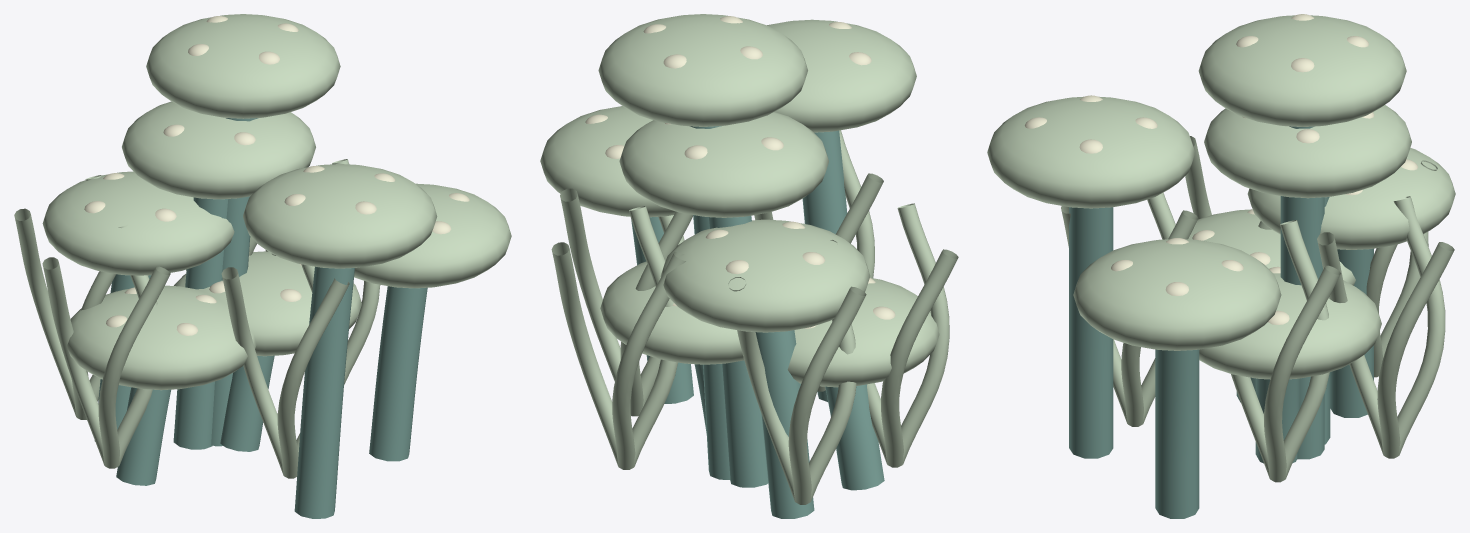
File: bio_spore_fungus_09_near.glb
3 views of the same model, side by side, from view 1: azimuth 30°, elevation 25°; view 2: azimuth 150°, elevation 25°; view 3: azimuth 270°, elevation 25° (orthographic). The views are drawn at different scales.
Parts seen in each view (by area): view 1: Thick umbrella cap.003, Thick umbrella cap.002, Thick umbrella cap.001, Thick umbrella cap.006, Thick umbrella cap.004, Curved stipe.002, Thick umbrella cap.005, Spiral filament.012, Curved stipe.005, Spiral filament.006, Thick umbrella cap, Spiral filament.003 (+9 smaller); view 2: Thick umbrella cap.003, Thick umbrella cap.001, Thick umbrella cap.006, Thick umbrella cap.002, Spiral filament.009, Spiral filament.003, Spiral filament.012, Thick umbrella cap.005, Thick umbrella cap.004, Thick umbrella cap, Spiral filament, Curved stipe.006 (+9 smaller); view 3: Thick umbrella cap.002, Thick umbrella cap.005, Thick umbrella cap.003, Thick umbrella cap.006, Spiral filament.009, Thick umbrella cap, Curved stipe.002, Thick umbrella cap.001, Spiral filament, Curved stipe.005, Spiral filament.006, Curved stipe.003 (+8 smaller).
Part boxes in pixels (x1,y1,x2,y2): Thick umbrella cap.003: [146, 14, 340, 118]; Thick umbrella cap.002: [243, 164, 437, 268]; Thick umbrella cap.001: [42, 171, 234, 275]; Thick umbrella cap.006: [122, 101, 315, 199]; Thick umbrella cap.004: [67, 285, 256, 390]; Curved stipe.002: [294, 266, 354, 518]; Thick umbrella cap.005: [354, 183, 511, 288]; Spiral filament.012: [42, 225, 170, 468]; Curved stipe.005: [369, 286, 427, 461]; Spiral filament.006: [221, 264, 349, 478]; Thick umbrella cap: [174, 251, 361, 356]; Spiral filament.003: [14, 175, 116, 419]; Thick umbrella cap.003: [598, 14, 807, 126]; Thick umbrella cap.001: [660, 219, 870, 332]; Thick umbrella cap.006: [619, 112, 828, 217]; Thick umbrella cap.002: [767, 19, 916, 132]; Spiral filament.009: [551, 206, 685, 469]; Spiral filament.003: [728, 277, 866, 504]; Spiral filament.012: [830, 203, 958, 467]; Thick umbrella cap.005: [540, 106, 675, 217]; Thick umbrella cap.004: [787, 278, 939, 387]; Thick umbrella cap: [600, 261, 743, 364]; Spiral filament: [560, 188, 692, 416]; Curved stipe.006: [708, 216, 768, 487]; Thick umbrella cap.002: [987, 96, 1195, 208]; Thick umbrella cap.005: [1073, 239, 1281, 350]; Thick umbrella cap.003: [1198, 15, 1406, 126]; Thick umbrella cap.006: [1204, 105, 1411, 198]; Spiral filament.009: [1317, 196, 1454, 458]; Thick umbrella cap: [1199, 273, 1381, 379]; Curved stipe.002: [1069, 207, 1113, 458]; Thick umbrella cap.001: [1247, 148, 1455, 249]; Spiral filament: [1231, 220, 1340, 482]; Curved stipe.005: [1155, 349, 1199, 518]; Spiral filament.006: [1061, 192, 1198, 426]; Curved stipe.003: [1280, 126, 1324, 459].
Size of the model in its own units: 1.97 by 1.82 by 1.8.
